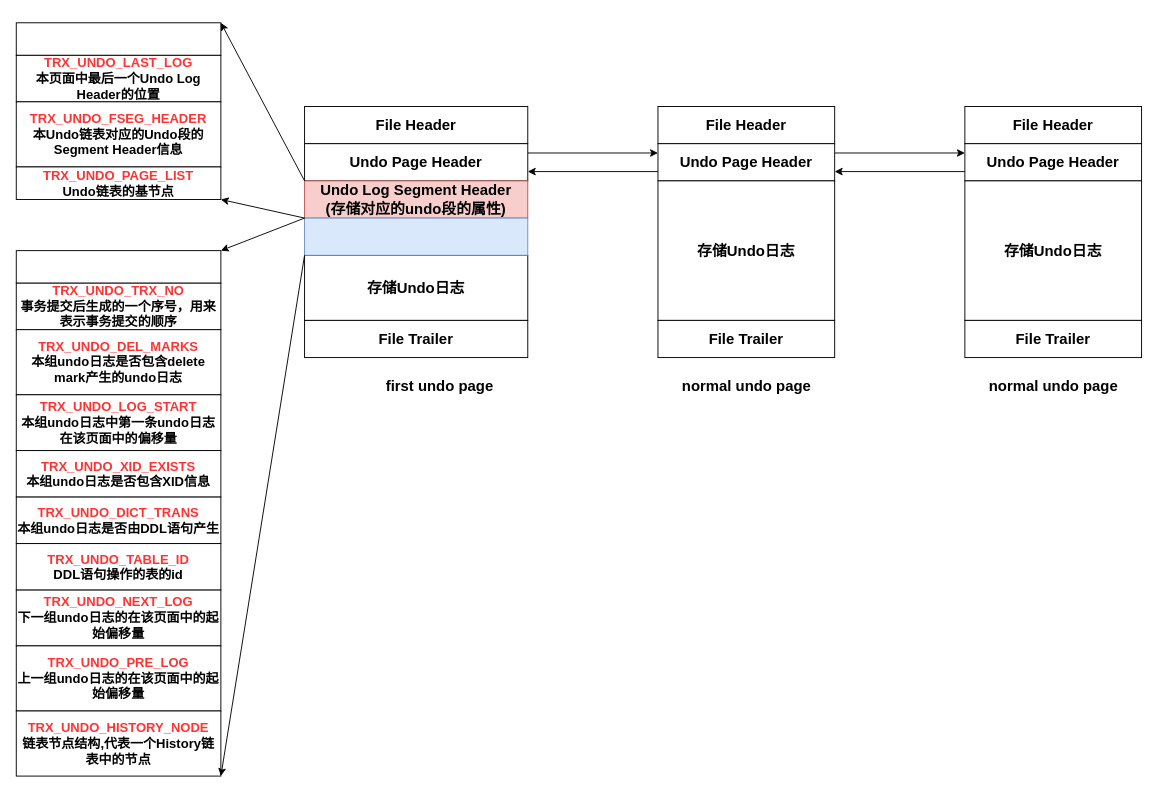
This 1158x800 diagram has some shape labels left out. The shapes that lost their labels are listed below. From the top down, each one's centre as x and y in pixels, then its label:
At [118,38]: "TRX_UNDO_STATE Undo链表的状态".
At [416,236]: "Undo Log Header".
At [118,266]: "TRX_UNDO_TRX_ID 生成undo日志的事务ID".
